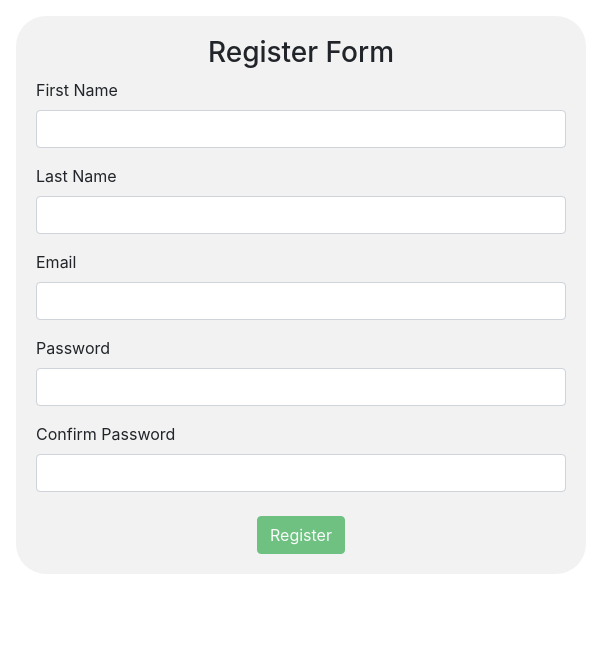
Scenario: register page › test password validation › fill lastname and then fill password with string containing string from firstname, expect error saying *Password must not contain last name
The width and height of the screenshot is (603, 663).
Type "test" into the field named "lastName" below "Last Name" at (301, 215), box [36, 196, 566, 234]
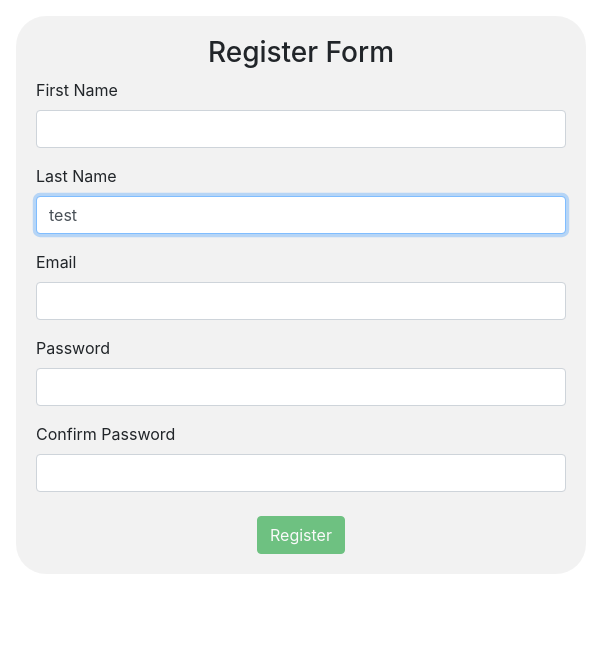
Type "testabc" into the 1st password field named "password" at (301, 387), box [36, 368, 566, 406]
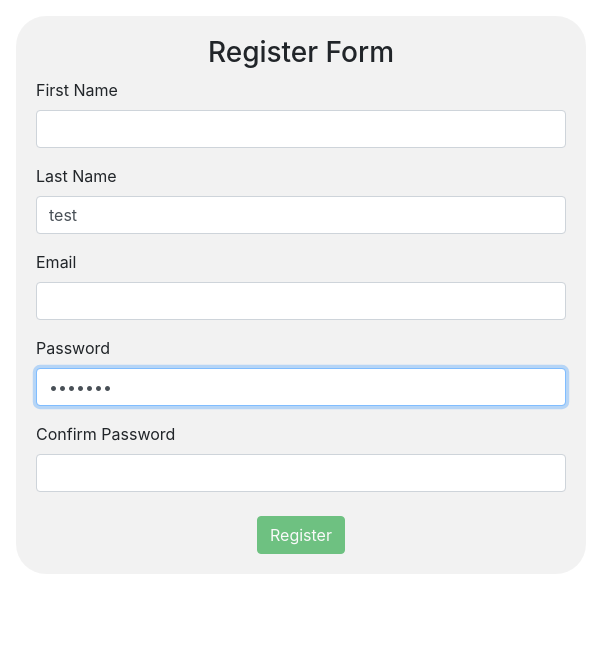
Focus the password field named "confirmPassword" below "Confirm Password" at (301, 473), box [36, 454, 566, 492]
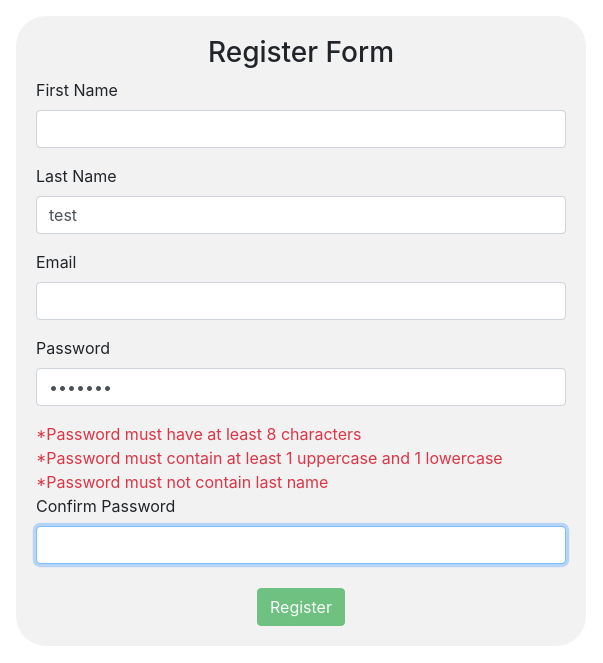
Result: the text "*Password must not contain last name" is shown at [36, 472, 328, 492]
